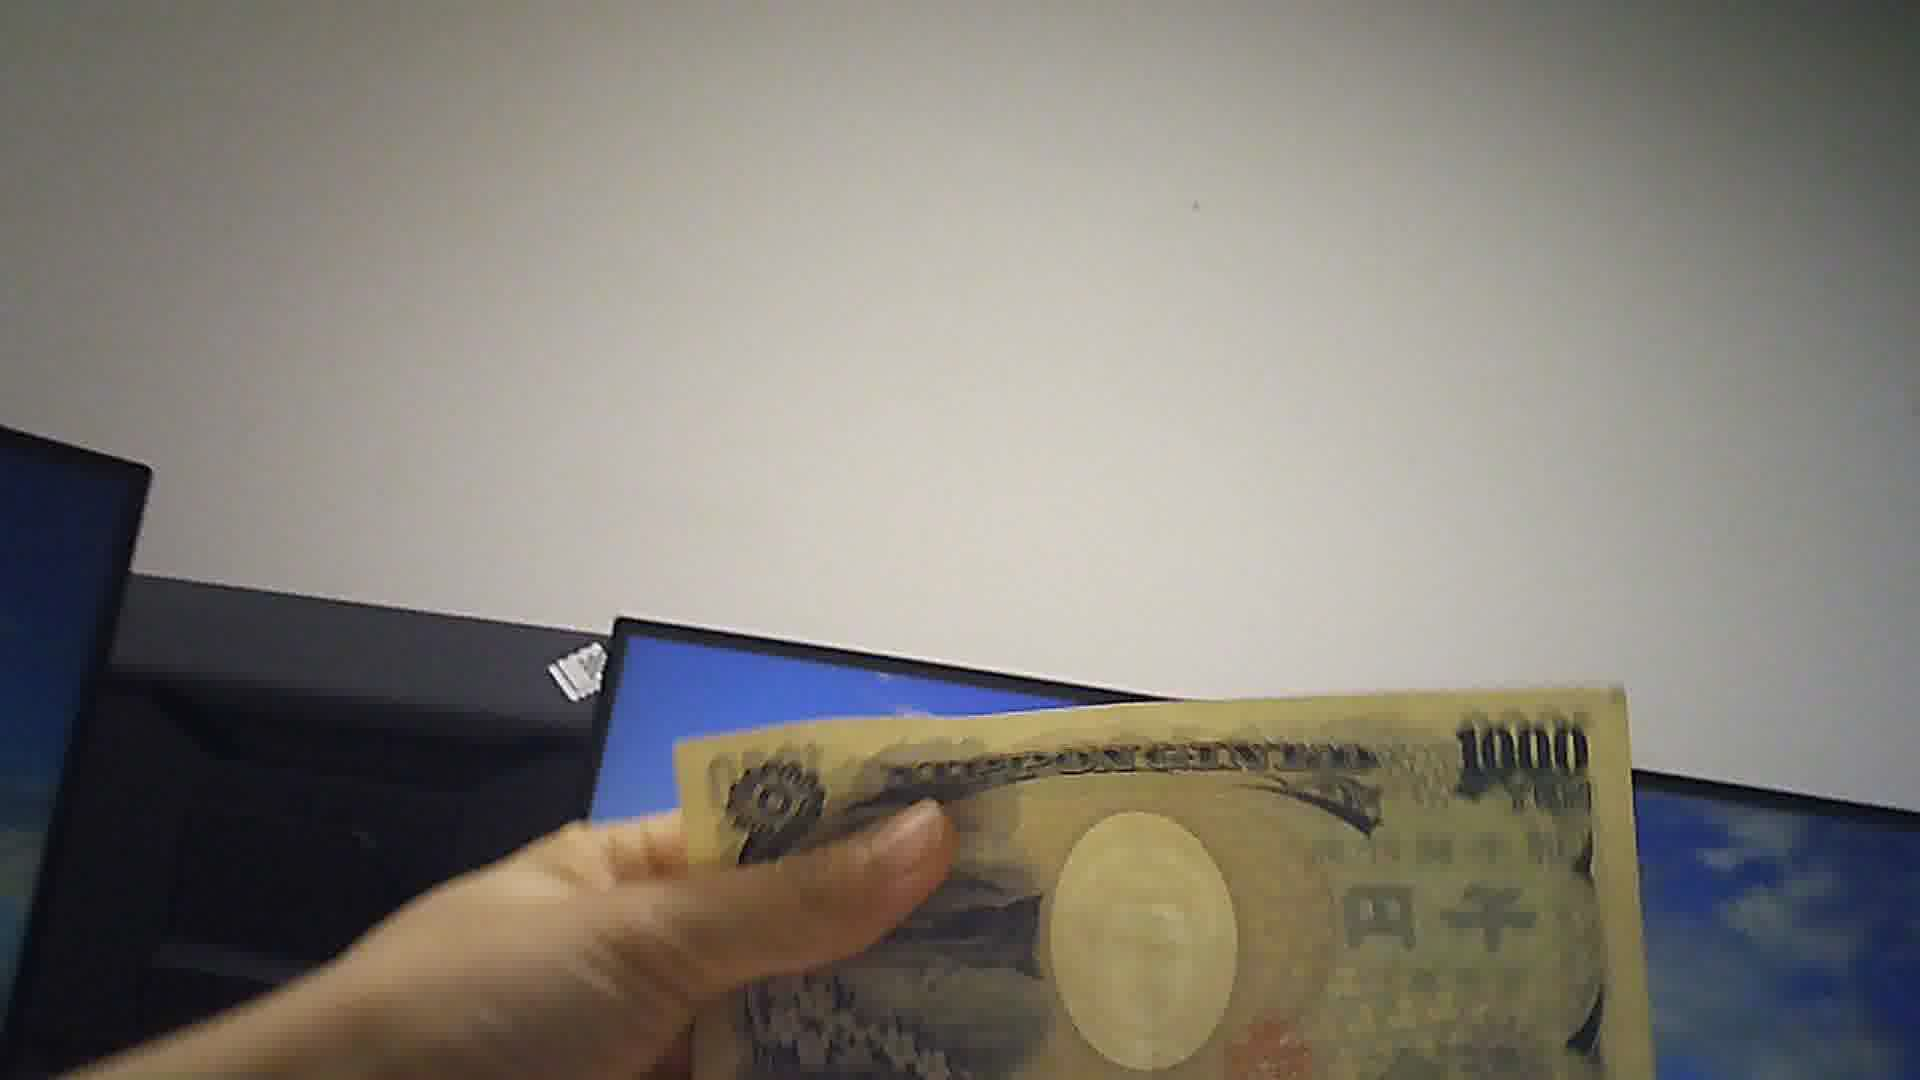1,000 Yen: (658, 686, 1654, 1079)
